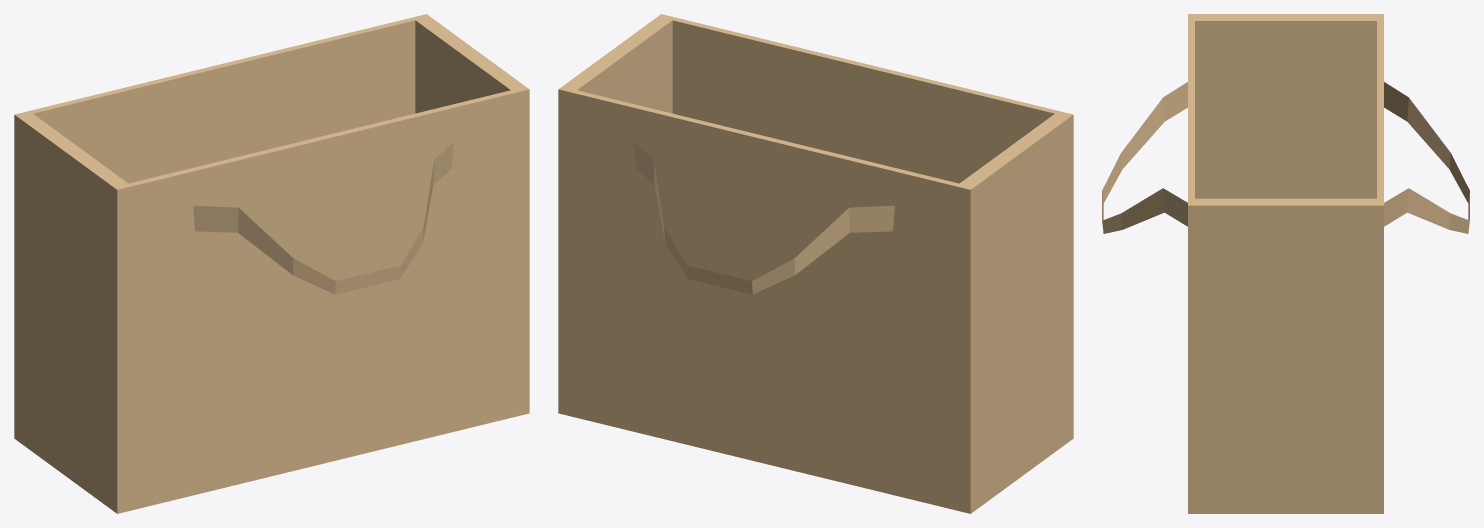
File: baag.fbx
The picture shows the model from 3 angles, left to right: view 1: azimuth 30°, elevation 25°; view 2: azimuth 150°, elevation 25°; view 3: azimuth 270°, elevation 25°; orthographic projection. The views are drawn at different scales.
Visible parts, largest first — view 1: Cube; view 2: Cube; view 3: Cube.
Boxes of the visible parts, x1=… form: Cube: x1=14, y1=14, x2=529, y2=513; Cube: x1=558, y1=14, x2=1073, y2=513; Cube: x1=1102, y1=14, x2=1469, y2=513.
Size of the model in its own units: 494 by 371 by 401.
